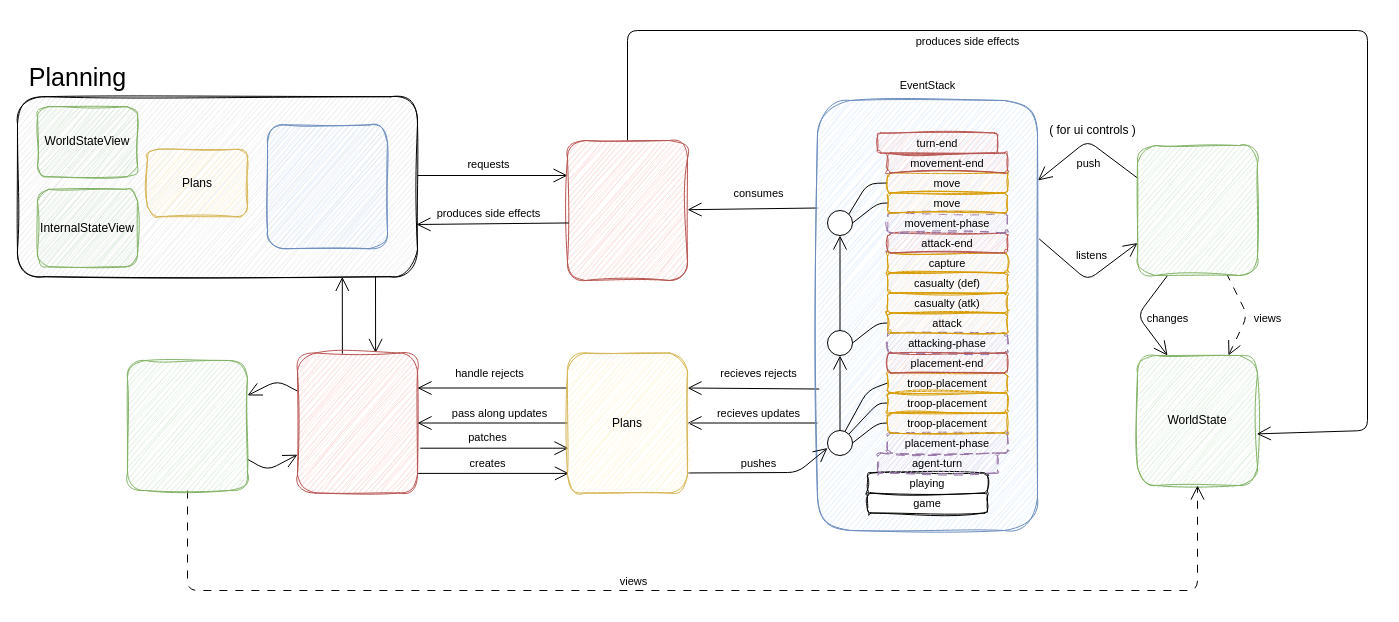
Some shapes in this 1399 by 622 pixel diagram are drawn without their labels. Here are the shapes that lost their labels. From the top down, the box of each, then its label:
(266, 124, 388, 249): DummyStacks
(566, 140, 688, 280): Engines
(826, 210, 852, 236): p m
(1136, 144, 1258, 276): pygame.loop
(826, 330, 852, 356): p a
(126, 360, 248, 490): Internal State
(296, 352, 418, 493): Agents
(826, 430, 852, 456): p d
